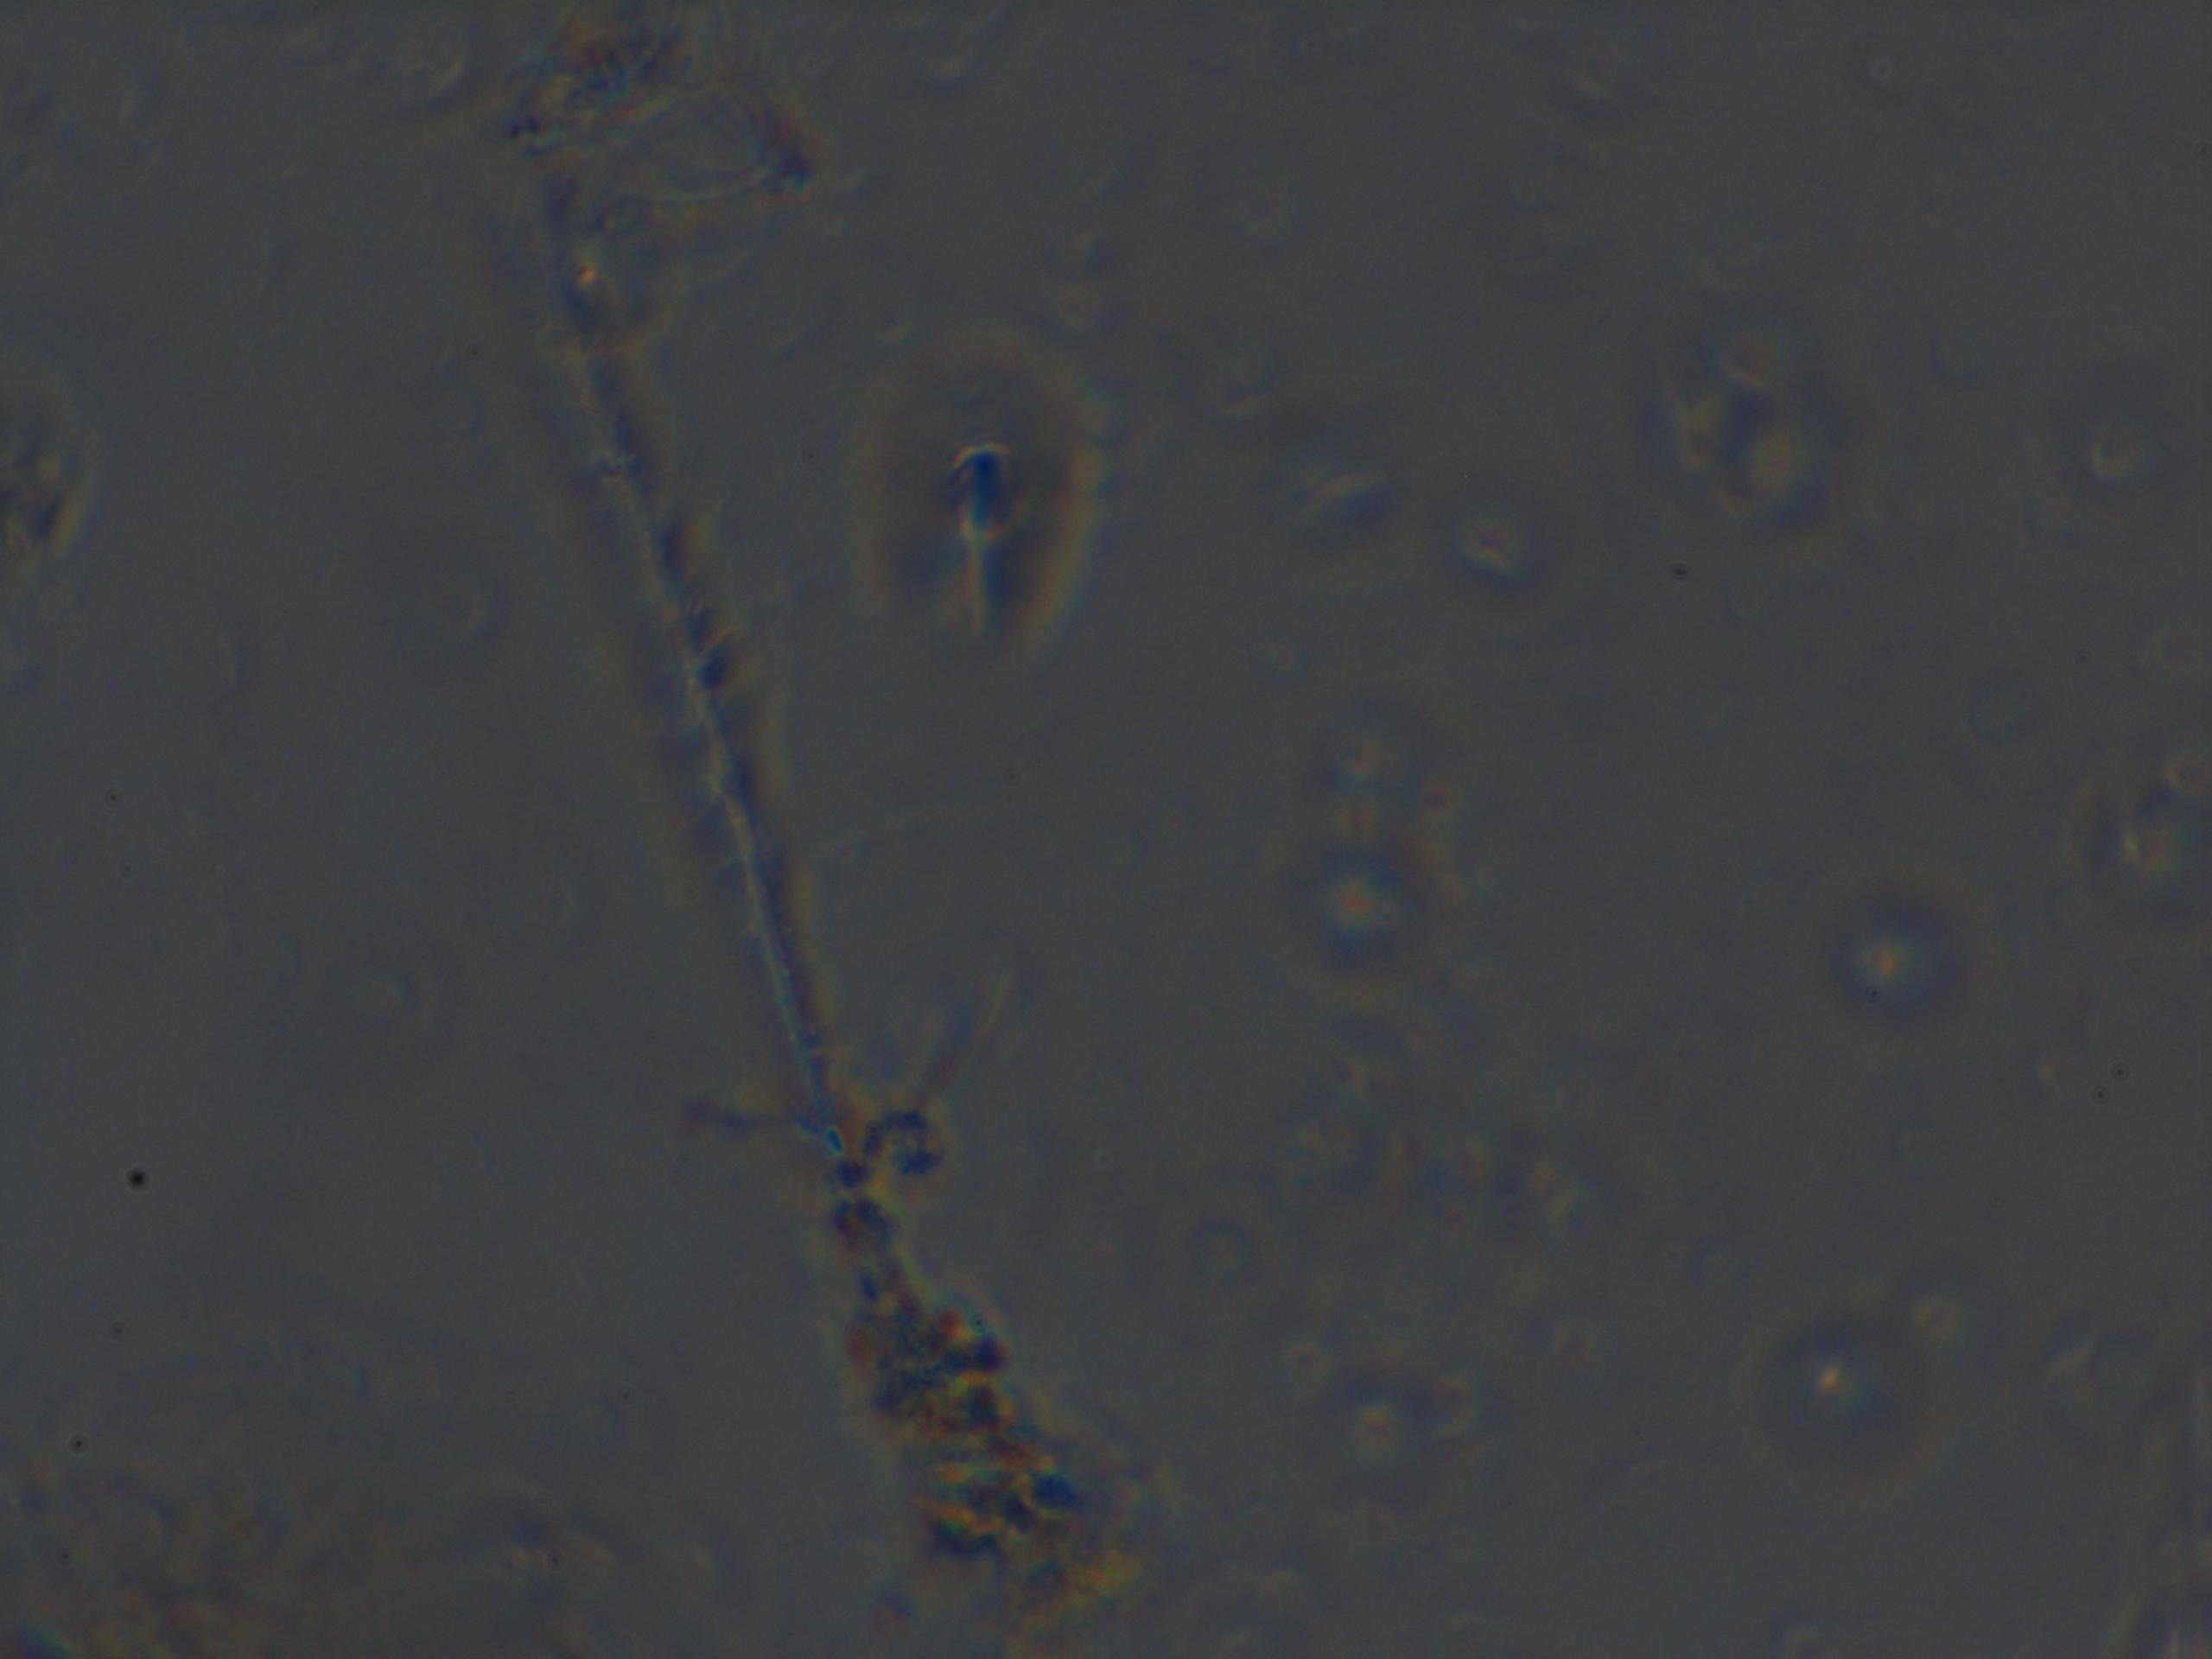filament: (509, 207, 1083, 1568)
